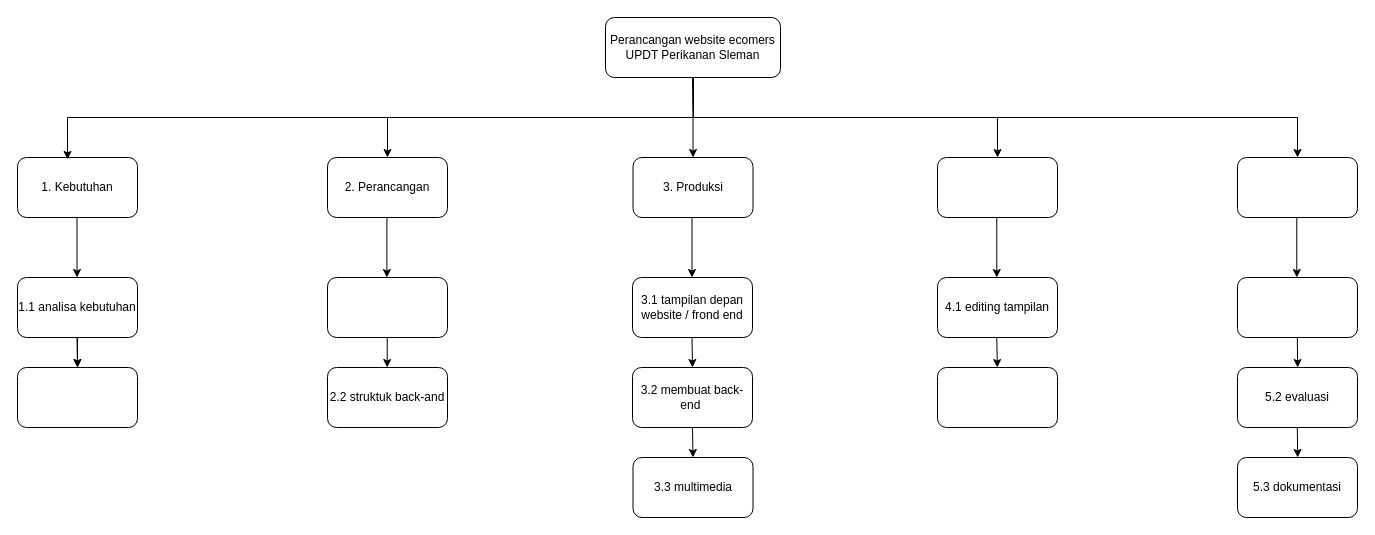
This 1375x535 diagram has some shape labels left out. The box of each missing label's shape, as (x1, y1, x2, y2) in pixels:
1.2. penjadwalan: (16, 366, 138, 428)
2.1 tampila depan: (326, 276, 448, 338)
4. Pasca Produksi: (936, 156, 1058, 218)
4.2 editing fitur: (936, 366, 1058, 428)
5. Testing: (1236, 156, 1358, 218)
5.1 demo project: (1236, 276, 1358, 338)
